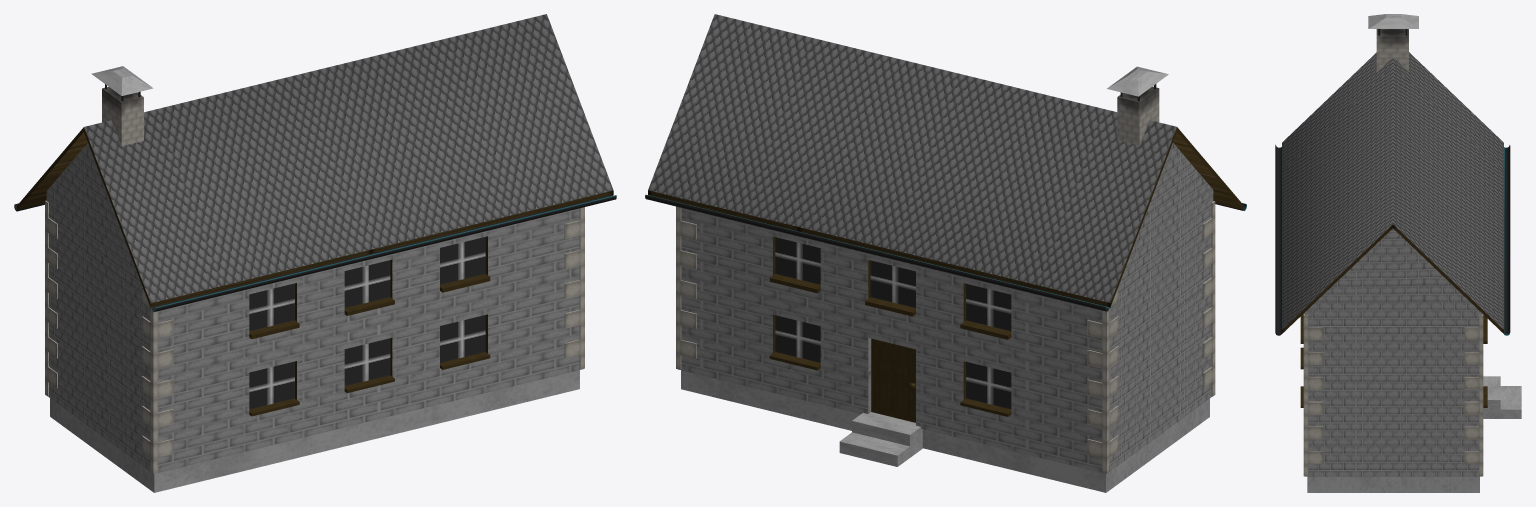
File: geo_house1.obj
3 views of the same model, side by side, from view 1: azimuth 30°, elevation 25°; view 2: azimuth 150°, elevation 25°; view 3: azimuth 270°, elevation 25° (orthographic). The views are drawn at different scales.
Parts seen in each view (by area): view 1: House1, Roof; view 2: House1, Roof, Stairs; view 3: Roof, House1, Stairs.
Boxes of the visible parts, <box> form: House1: <box>45,143,584,492</box>; Roof: <box>14,14,616,311</box>; House1: <box>676,143,1215,492</box>; Roof: <box>645,14,1246,311</box>; Stairs: <box>839,413,922,466</box>; Roof: <box>1275,14,1510,335</box>; House1: <box>1300,228,1487,492</box>; Stairs: <box>1483,376,1521,418</box>.
Size of the model in its own units: 100 by 77.89 by 55.48.
